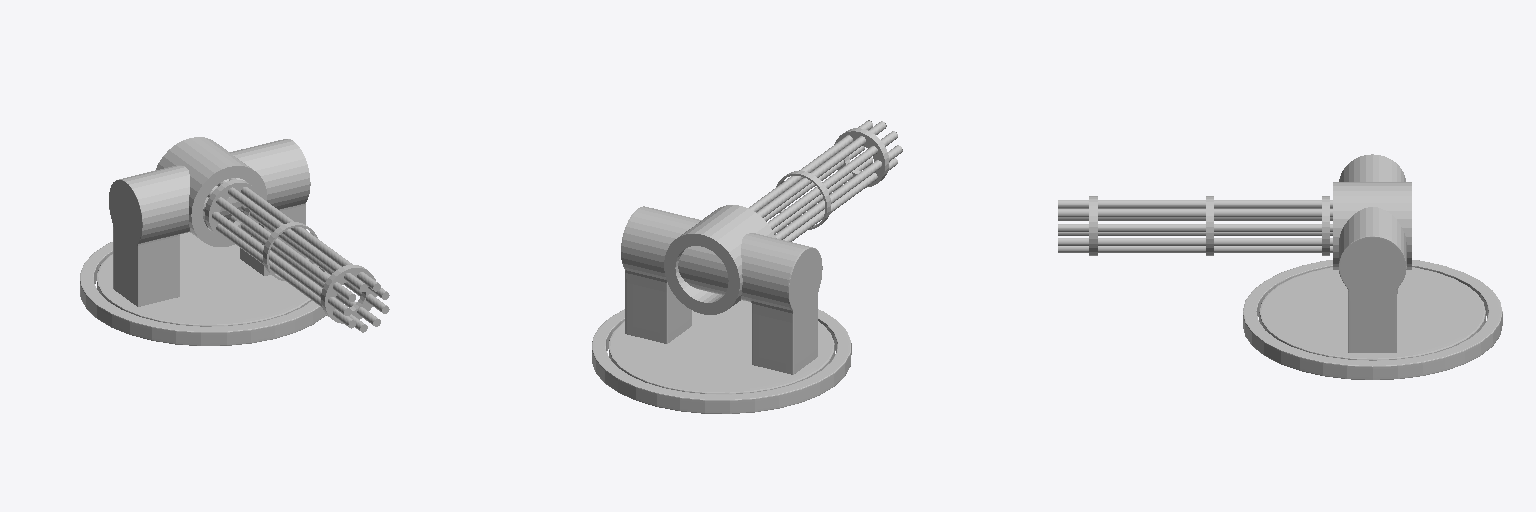
The model's file is turret _v001.obj.
The picture shows the model from 3 angles: view 1: azimuth 30°, elevation 25°; view 2: azimuth 150°, elevation 25°; view 3: azimuth 270°, elevation 25°; orthographic projection.
Parts seen in each view (by area): view 1: Cylinder.005_Cylinder.007, Cylinder.006_Cylinder.008, Cylinder.004, Cylinder.008_Cylinder.010, Cylinder.002_Cylinder.006, Cylinder.003, Cylinder.001_Cylinder.005, Cylinder; view 2: Cylinder.005_Cylinder.007, Cylinder.006_Cylinder.008, Cylinder.008_Cylinder.010, Cylinder.004, Cylinder.002_Cylinder.006, Cylinder.003, Cylinder; view 3: Cylinder.006_Cylinder.008, Cylinder.004, Cylinder.005_Cylinder.007, Cylinder.008_Cylinder.010, Cylinder.002_Cylinder.006, Cylinder.003.
Boxes of the visible parts, box(x1,y1,x2,y2) form: Cylinder.005_Cylinder.007: box(109, 139, 310, 306); Cylinder.006_Cylinder.008: box(97, 232, 319, 326); Cylinder.004: box(203, 178, 386, 330); Cylinder.008_Cylinder.010: box(80, 242, 330, 345); Cylinder.002_Cylinder.006: box(156, 137, 266, 246); Cylinder.003: box(321, 265, 376, 323); Cylinder.001_Cylinder.005: box(205, 179, 259, 238); Cylinder: box(263, 222, 317, 280); Cylinder.005_Cylinder.007: box(621, 206, 822, 374); Cylinder.006_Cylinder.008: box(609, 300, 834, 393); Cylinder.008_Cylinder.010: box(592, 309, 851, 413); Cylinder.004: box(749, 121, 902, 241); Cylinder.002_Cylinder.006: box(664, 205, 775, 314); Cylinder.003: box(834, 128, 889, 187); Cylinder: box(776, 171, 830, 229); Cylinder.006_Cylinder.008: box(1259, 267, 1485, 360); Cylinder.004: box(1058, 200, 1332, 252); Cylinder.005_Cylinder.007: box(1339, 154, 1406, 352); Cylinder.008_Cylinder.010: box(1243, 260, 1502, 379); Cylinder.002_Cylinder.006: box(1333, 182, 1411, 269); Cylinder.003: box(1089, 196, 1097, 255).
Size of the model in its own units: 2.24 by 1.32 by 3.83.